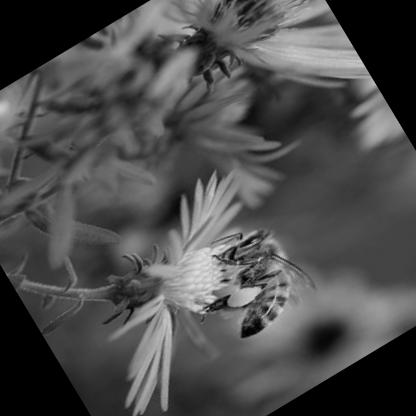other: (180, 210, 326, 352)
